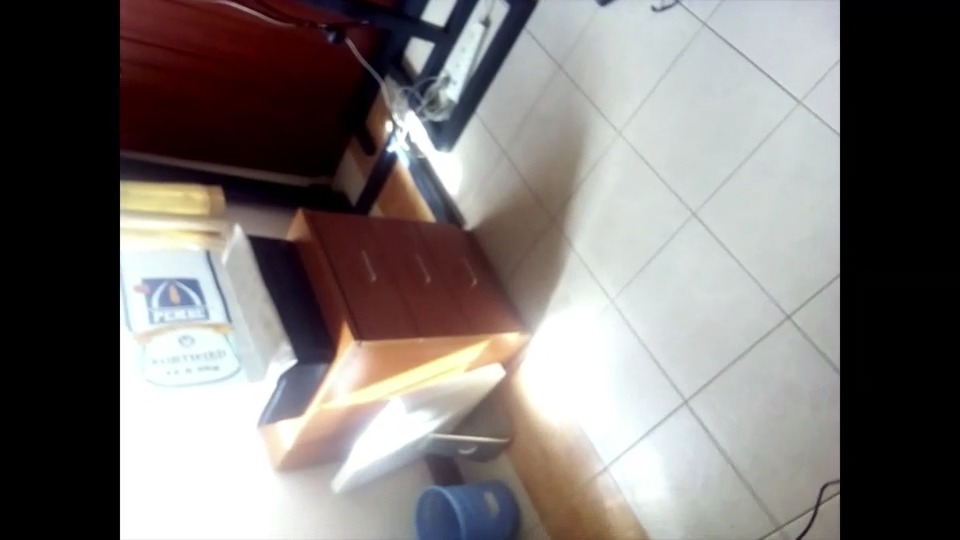wheat_flour_blue_label: (117, 217, 289, 425)
